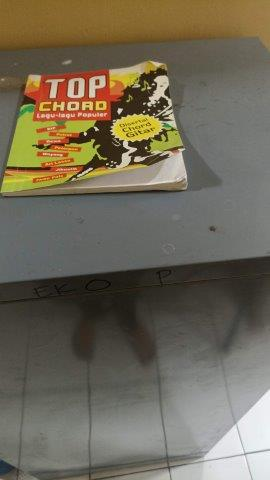kertas: (1, 60, 188, 198)
